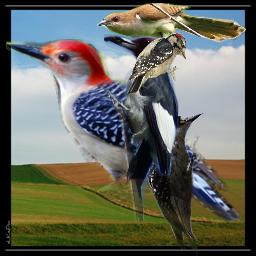Cuckoo: (97, 3, 247, 55)
Woodpecker: (6, 39, 241, 222), (104, 34, 179, 223), (140, 106, 208, 256), (121, 32, 186, 97)
